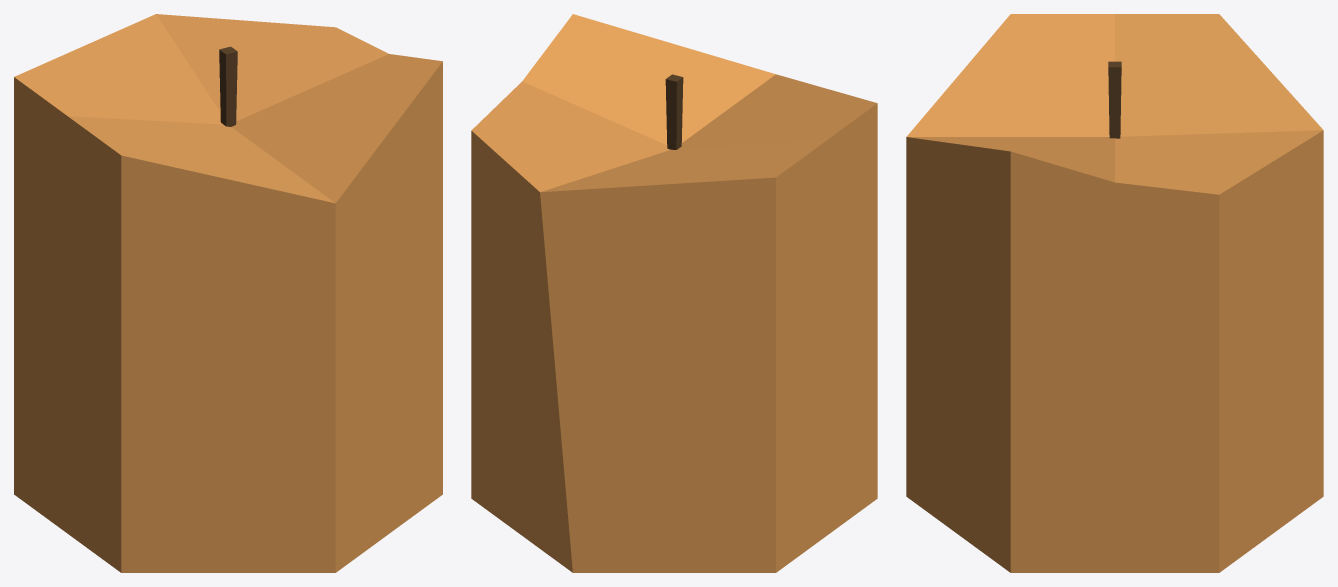
File: Candle_01.fbx
The picture shows the model from 3 angles, left to right: view 1: azimuth 30°, elevation 25°; view 2: azimuth 150°, elevation 25°; view 3: azimuth 270°, elevation 25°; orthographic projection. The views are drawn at different scales.
Visible parts, largest first — view 1: Candle_01; view 2: Candle_01; view 3: Candle_01.
Part boxes in pixels (x1=…): Candle_01: x1=14, y1=14, x2=442, y2=572; Candle_01: x1=471, y1=14, x2=877, y2=572; Candle_01: x1=906, y1=14, x2=1323, y2=572.
Size of the model in its own units: 0.2032 by 0.268 by 0.2346.
